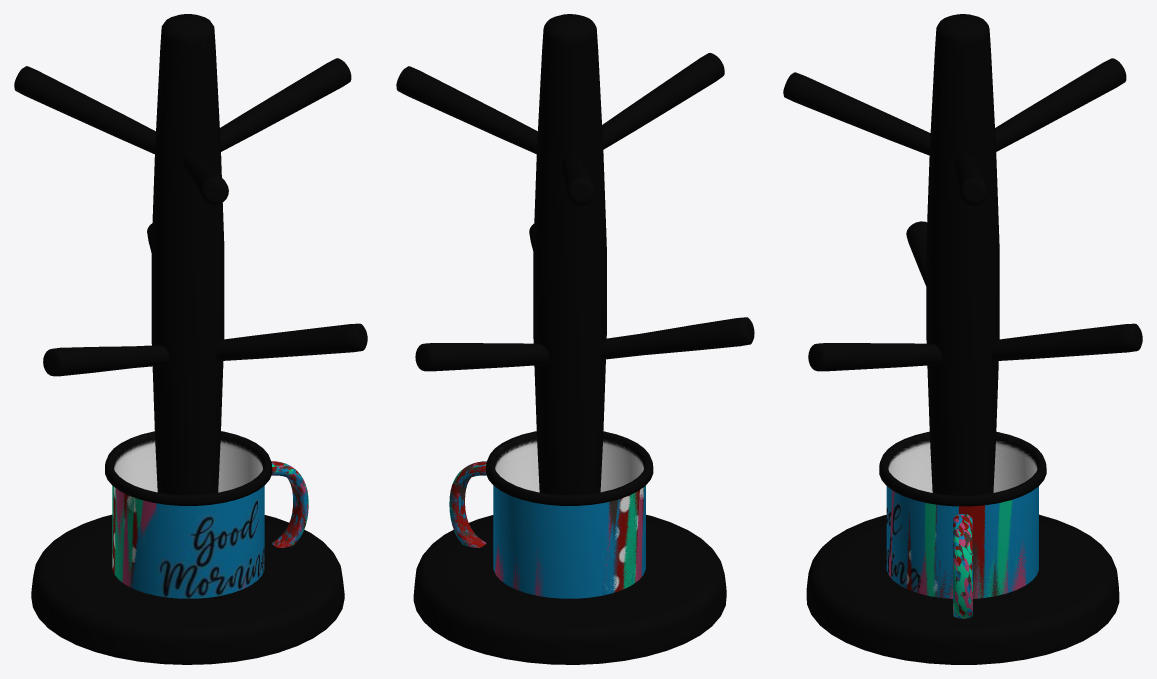
The model's file is holder_pt.glb.
3 views of the same model, side by side, from view 1: azimuth 30°, elevation 25°; view 2: azimuth 150°, elevation 25°; view 3: azimuth 270°, elevation 25° (orthographic).
Visible parts, largest first — view 1: holder, mug_2, mug_1, mug_6, mug_5, mug_3, mug_4; view 2: holder, mug_2, mug_1, mug_3, mug_6, mug_5; view 3: holder, mug_2, mug_1, mug_6, mug_3, mug_5, mug_4.
Boxes of the visible parts, x1,y1,x2,y2 form: holder: [14, 14, 367, 664]; mug_2: [105, 431, 308, 598]; mug_1: [106, 431, 307, 587]; mug_6: [105, 433, 308, 584]; mug_5: [105, 435, 308, 588]; mug_3: [107, 435, 307, 545]; mug_4: [106, 434, 307, 544]; holder: [396, 14, 754, 664]; mug_2: [449, 432, 653, 598]; mug_1: [450, 431, 653, 592]; mug_3: [449, 432, 651, 547]; mug_6: [449, 432, 652, 588]; mug_5: [452, 432, 649, 596]; holder: [783, 14, 1142, 664]; mug_2: [879, 432, 1046, 618]; mug_1: [881, 431, 1043, 618]; mug_6: [887, 444, 1042, 618]; mug_3: [881, 436, 1038, 617]; mug_5: [881, 438, 1044, 618]; mug_4: [893, 436, 1039, 618].
Bounding box in the file's own units: 0.1879 × 0.319 × 0.179.
Materials: 1 (1 with a texture image).
